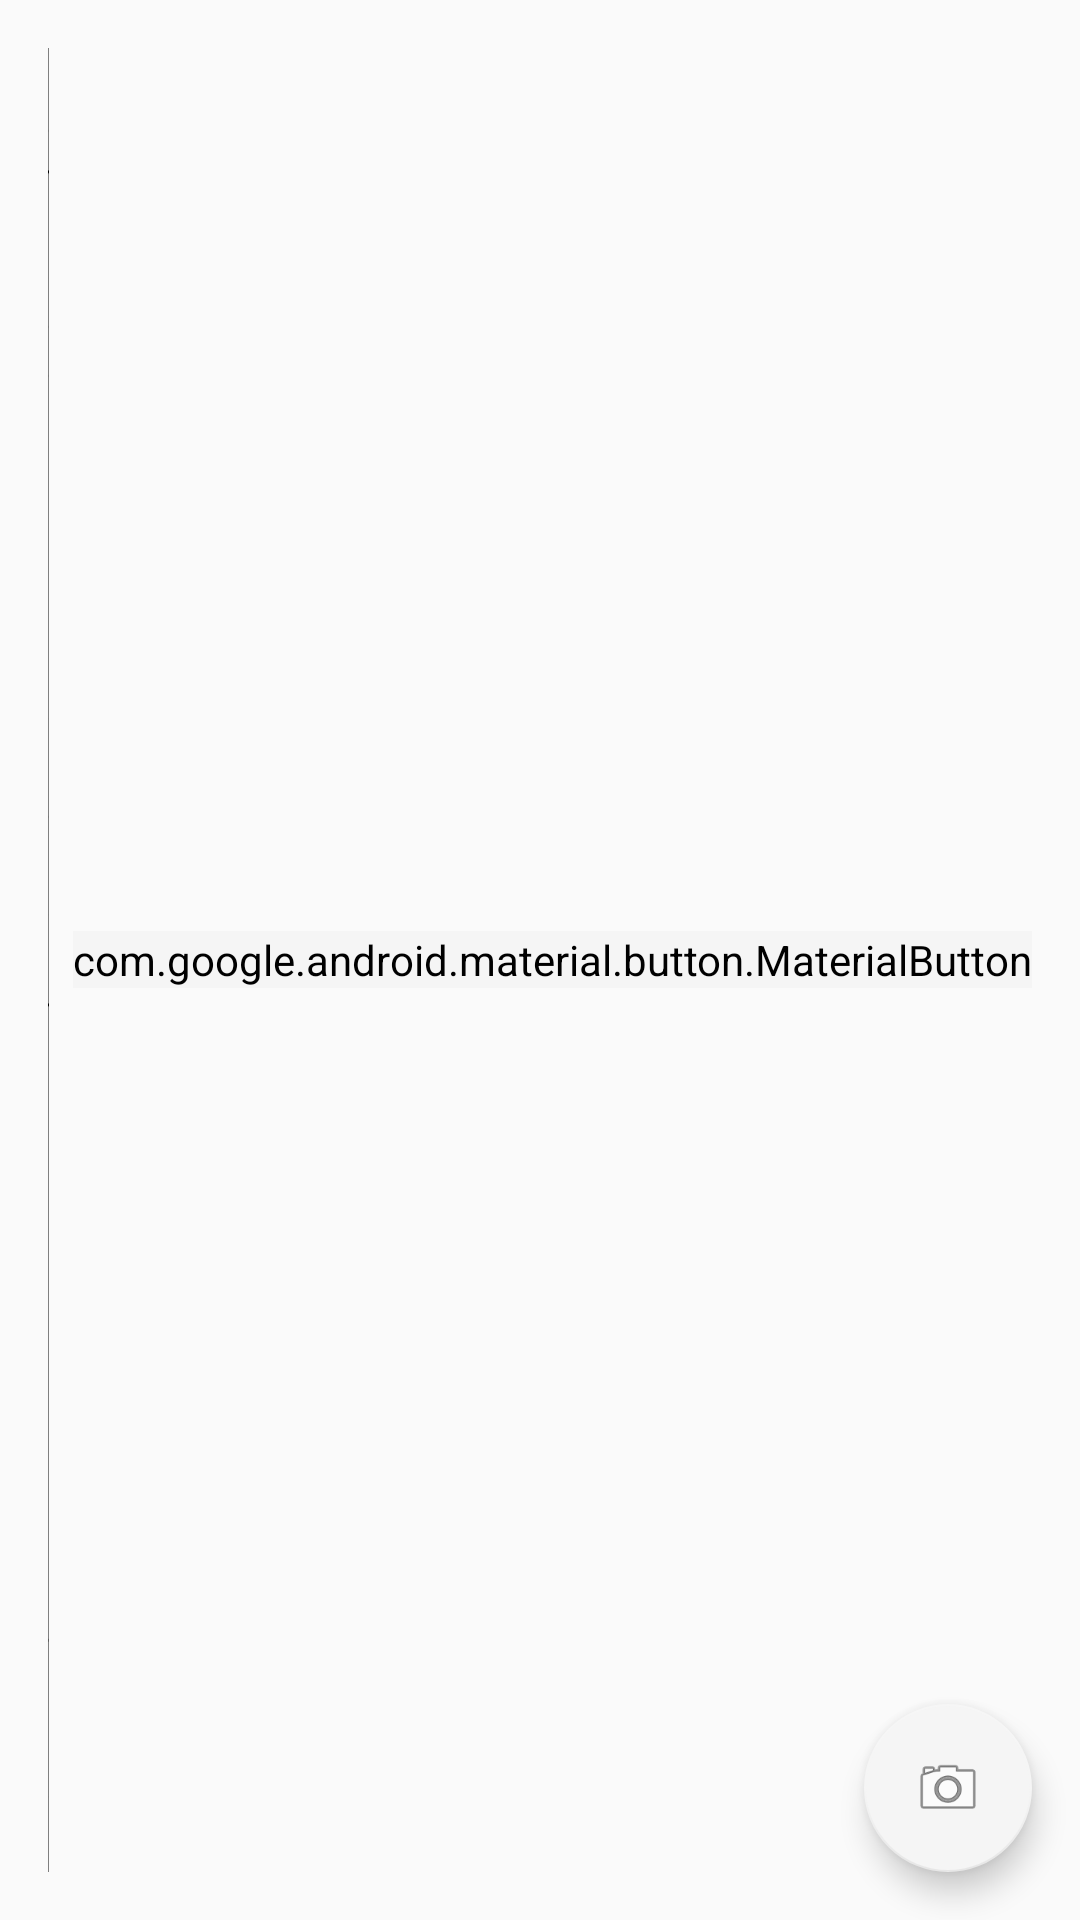

Named icons in this screenshot (1080w x 1920h) and their centers, point (x, y):
camera: point (951, 1818)
